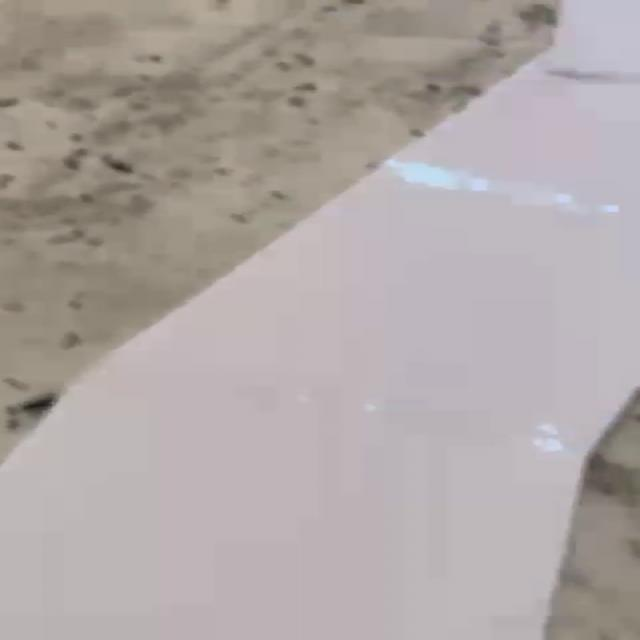road: (1, 0, 639, 640)
